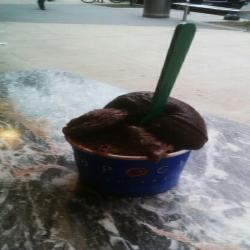icecream: (63, 83, 205, 200)
